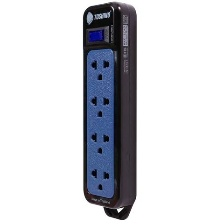three_eye_plug: (78, 0, 139, 210)
